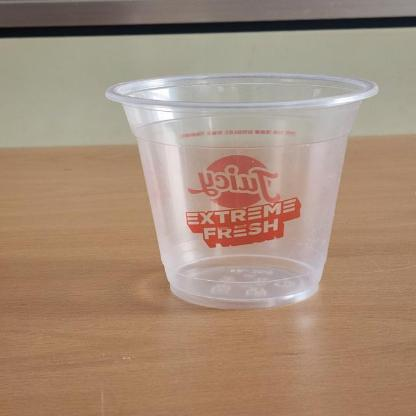Plastic Cup: (103, 70, 381, 308)
